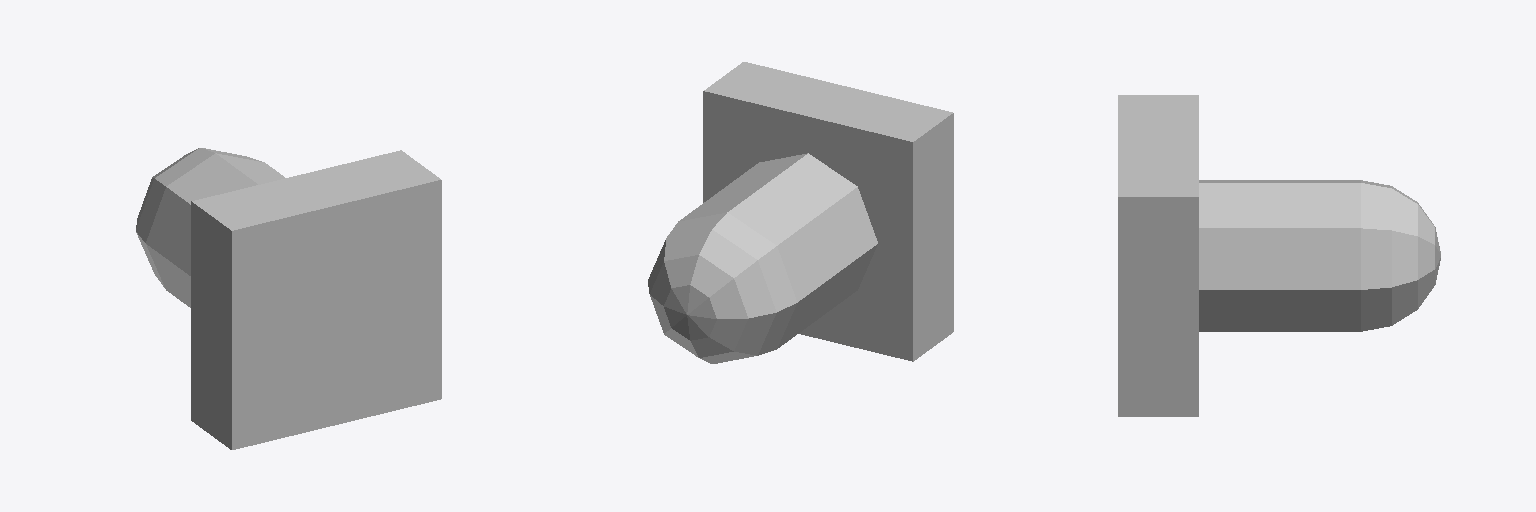
Rendered from warning_light.obj.
The picture shows the model from 3 angles: view 1: azimuth 30°, elevation 25°; view 2: azimuth 150°, elevation 25°; view 3: azimuth 270°, elevation 25°; orthographic projection.
Parts seen in each view (by area): view 1: Sphere; view 2: Sphere; view 3: Sphere.
Boxes of the visible parts, <box> form: Sphere: <box>136,148,441,449</box>; Sphere: <box>648,62,953,363</box>; Sphere: <box>1118,95,1440,416</box>.
Size of the model in its own units: 0.15 by 0.15 by 0.2.